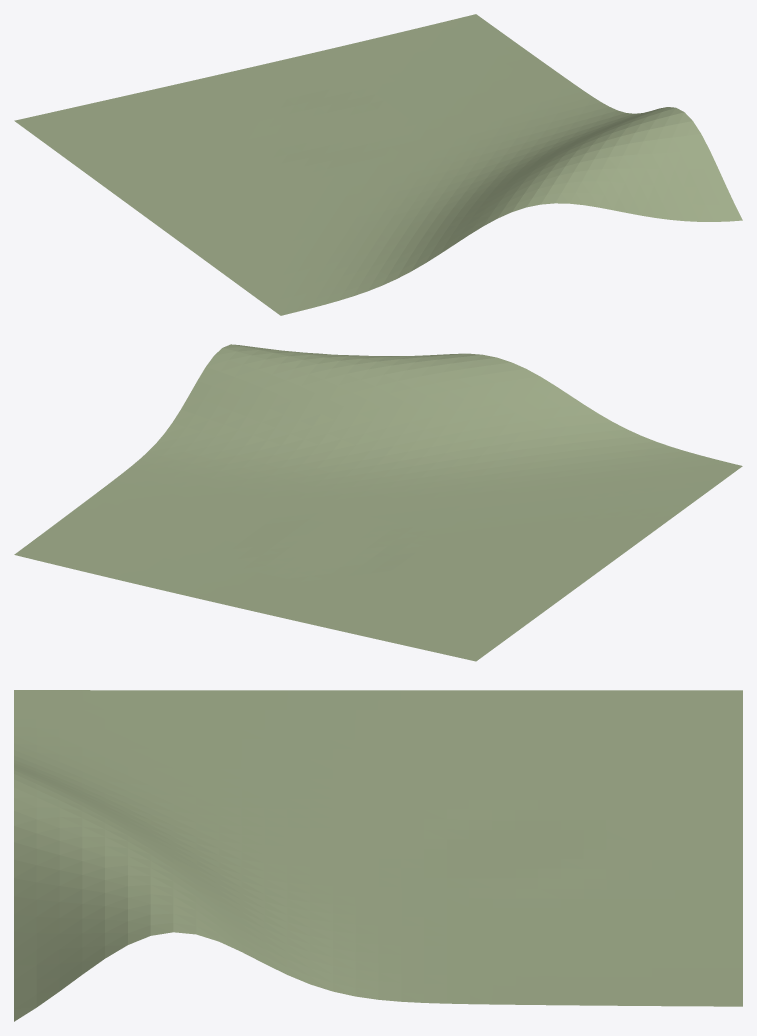
Rendered from lunar-0-3.glb.
3 renders of one model, top to bottom at view 1: azimuth 30°, elevation 25°; view 2: azimuth 150°, elevation 25°; view 3: azimuth 270°, elevation 25°, orthographic. The views are drawn at different scales.
Parts seen in each view (by area): view 1: lunar-0-3; view 2: lunar-0-3; view 3: lunar-0-3.
Boxes of the visible parts, x1,y1,x2,y2 form: lunar-0-3: (14,14,742,315); lunar-0-3: (14,344,742,661); lunar-0-3: (14,690,742,1021).
Bounding box in the file's own units: 128 × 17.44 × 128.
